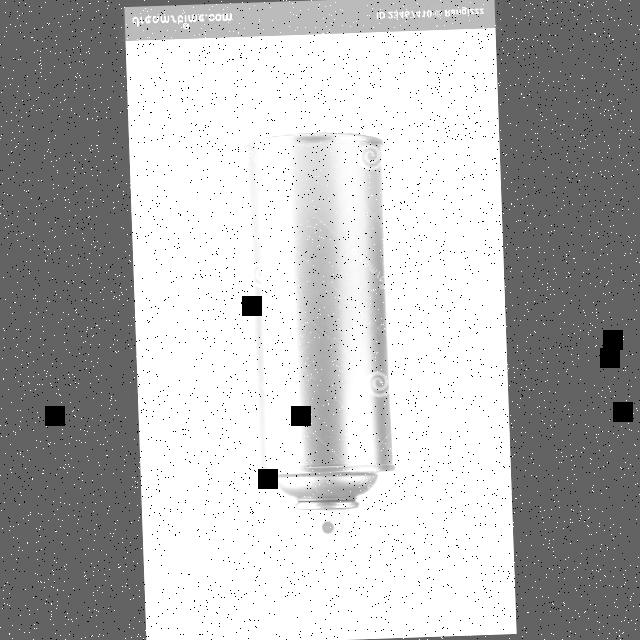chemical_spray_can: (221, 101, 420, 556)
